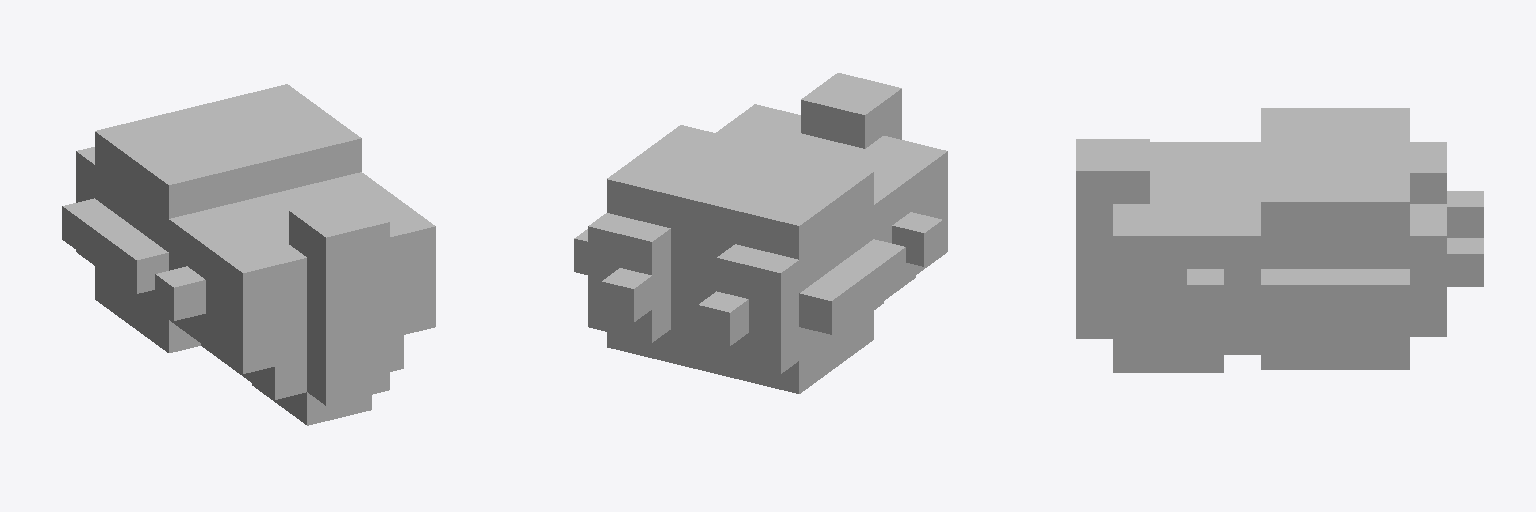
The model's file is suit3.obj.
3 renders of one model, left to right at view 1: azimuth 30°, elevation 25°; view 2: azimuth 150°, elevation 25°; view 3: azimuth 270°, elevation 25°, orthographic.
Visible parts, largest first — view 1: Model; view 2: Model; view 3: Model.
Part boxes in pixels (bbox=[...]): Model: bbox=[62, 84, 435, 425]; Model: bbox=[574, 73, 947, 393]; Model: bbox=[1076, 108, 1483, 372].
Size of the model in its own units: 0.8 by 0.6 by 1.1.